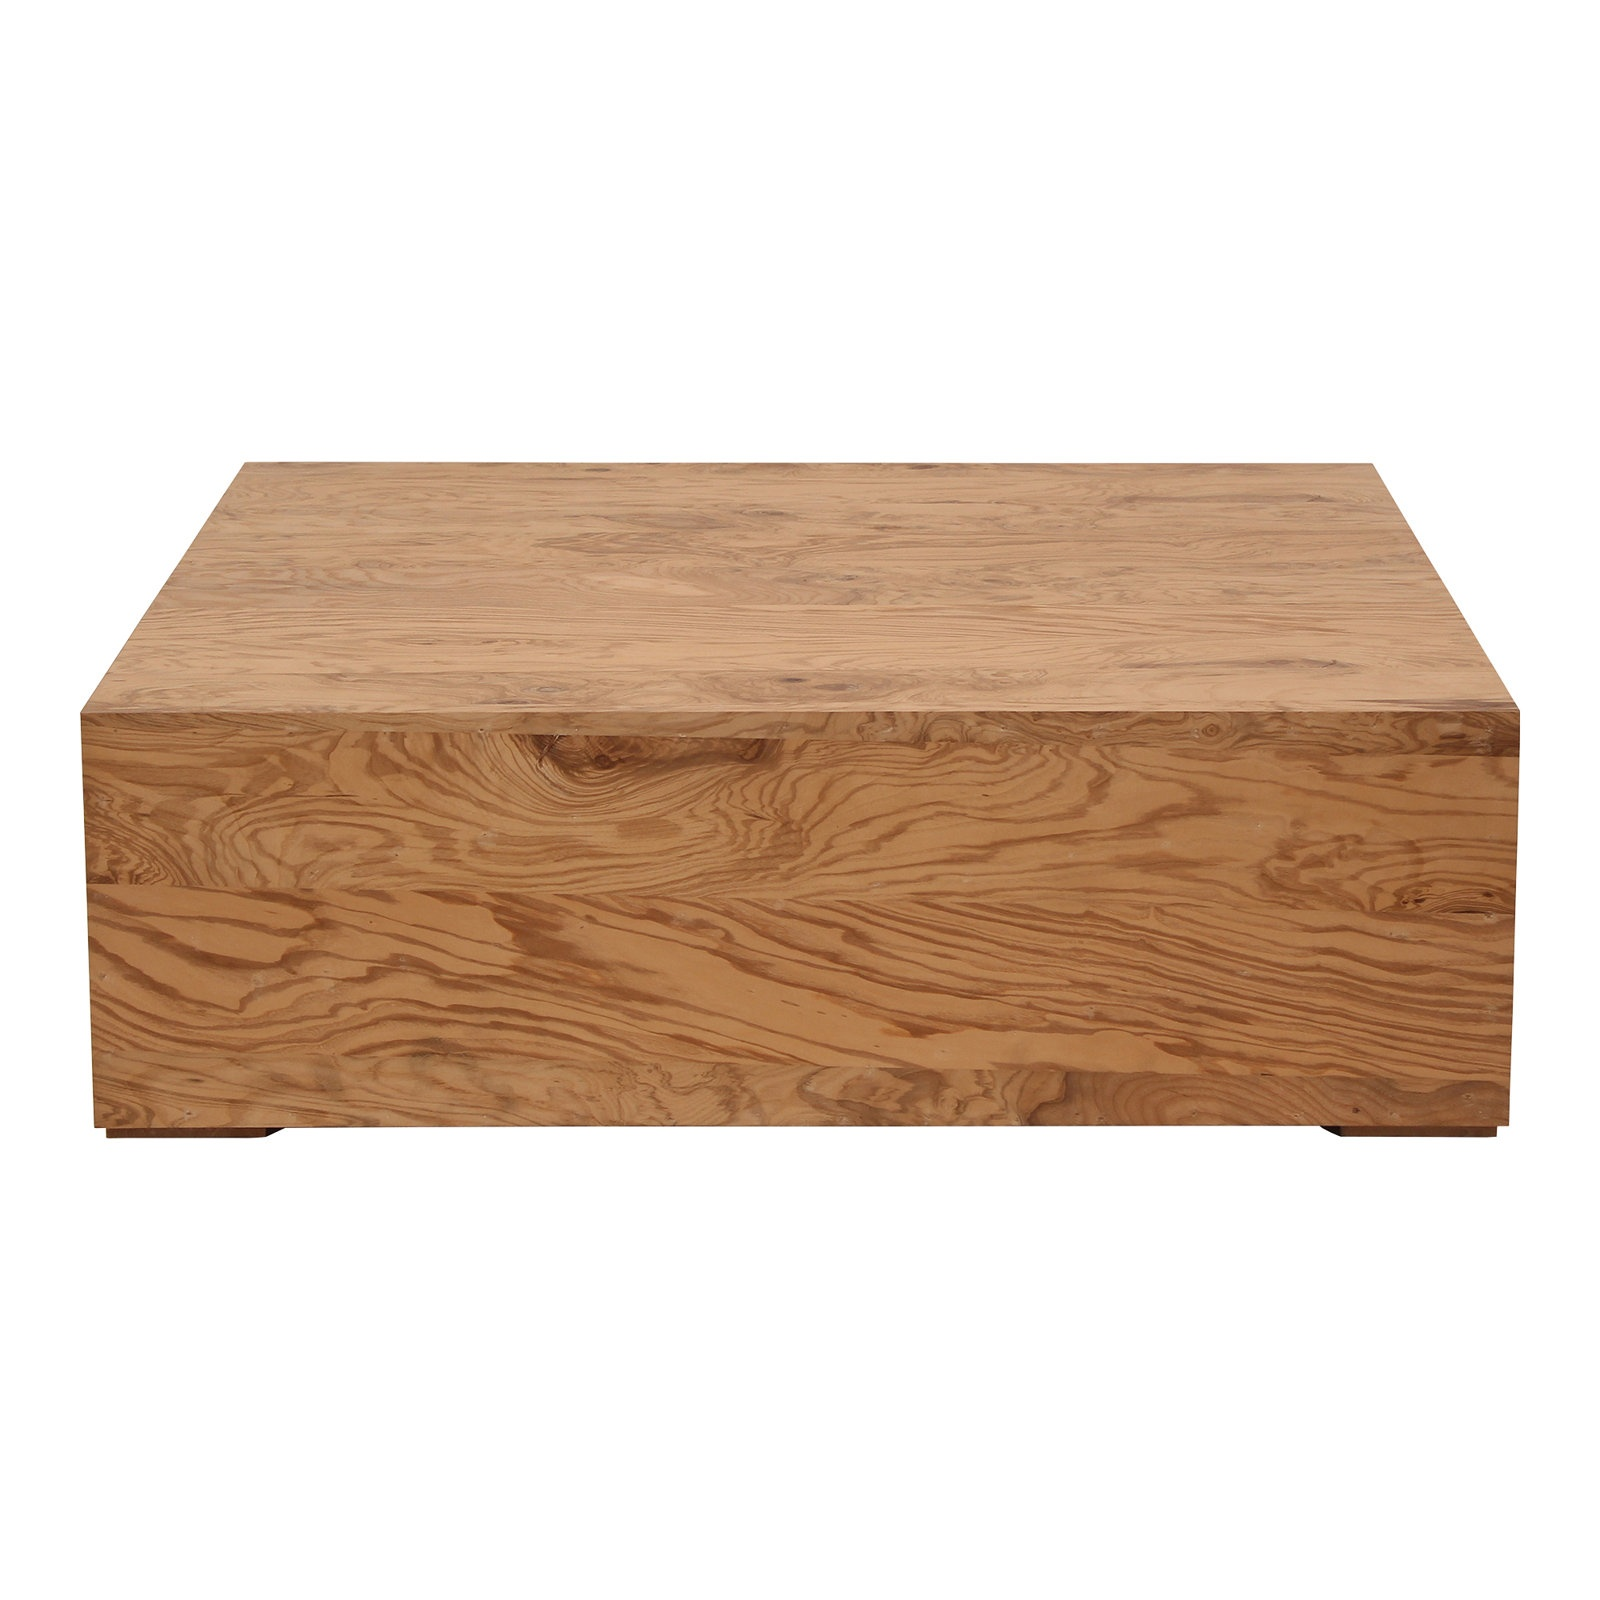obstacle: (84, 464, 1516, 1136)
